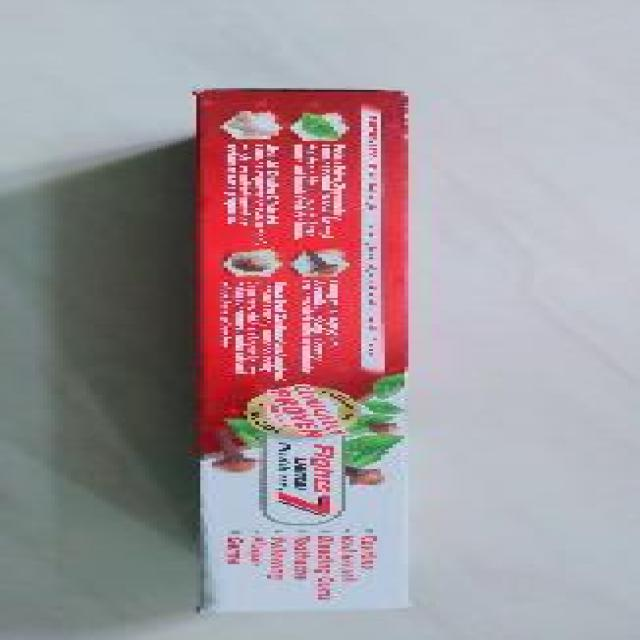tooth paste: (161, 80, 437, 630)
